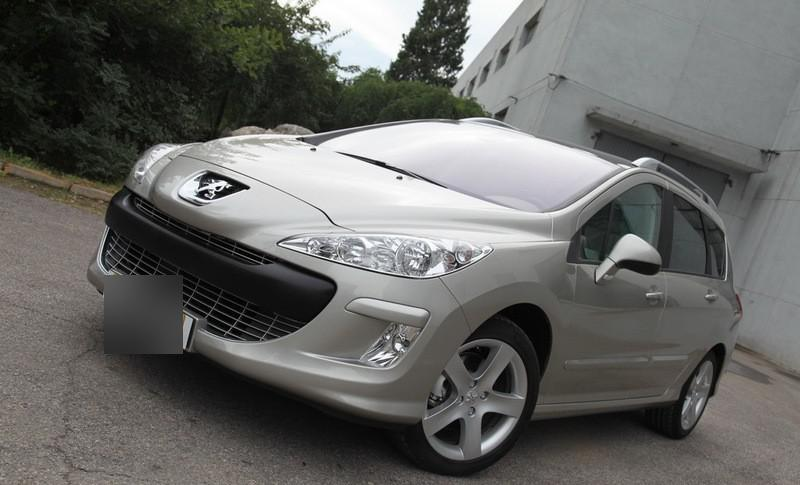Wagon: (85, 117, 744, 479)
